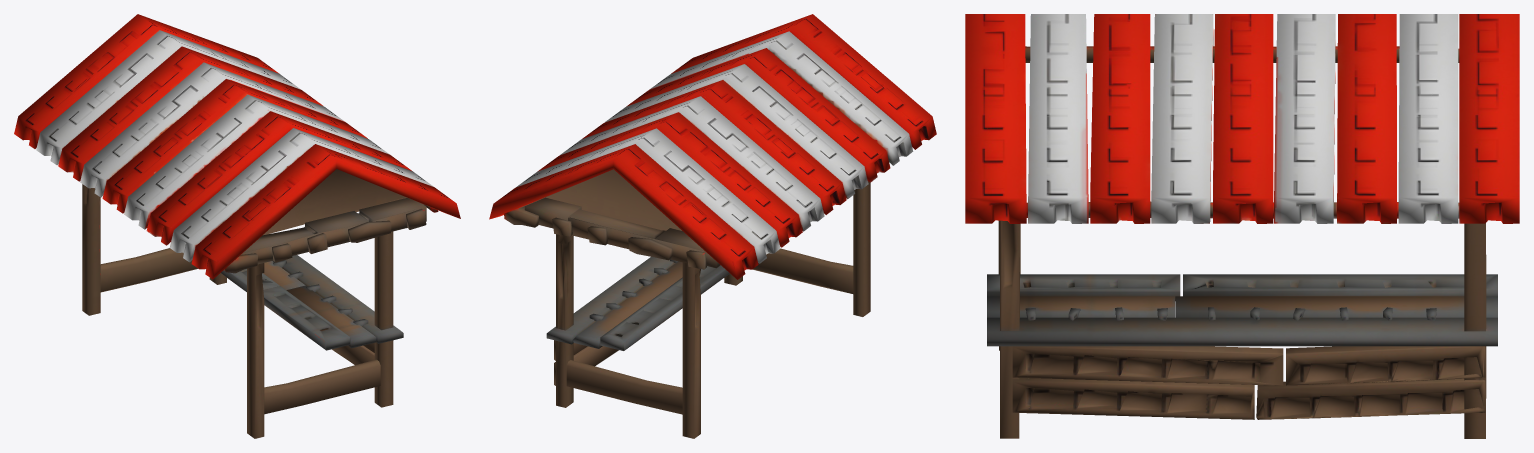
File: Community 3D Game Asset.glb
3 views of the same model, side by side, from view 1: azimuth 30°, elevation 25°; view 2: azimuth 150°, elevation 25°; view 3: azimuth 270°, elevation 25° (orthographic). The views are drawn at different scales.
Visible parts, largest first — view 1: tripo_node_63739f3d-ae1b-4dd0-beb6-bb36a77d3b89; view 2: tripo_node_63739f3d-ae1b-4dd0-beb6-bb36a77d3b89; view 3: tripo_node_63739f3d-ae1b-4dd0-beb6-bb36a77d3b89.
Boxes of the visible parts, x1=… form: tripo_node_63739f3d-ae1b-4dd0-beb6-bb36a77d3b89: x1=14, y1=14, x2=460, y2=438; tripo_node_63739f3d-ae1b-4dd0-beb6-bb36a77d3b89: x1=489, y1=14, x2=936, y2=438; tripo_node_63739f3d-ae1b-4dd0-beb6-bb36a77d3b89: x1=965, y1=14, x2=1519, y2=438.
Size of the model in its own units: 0.7192 by 0.7515 by 0.9995.
Materials: 1 (1 with a texture image).
